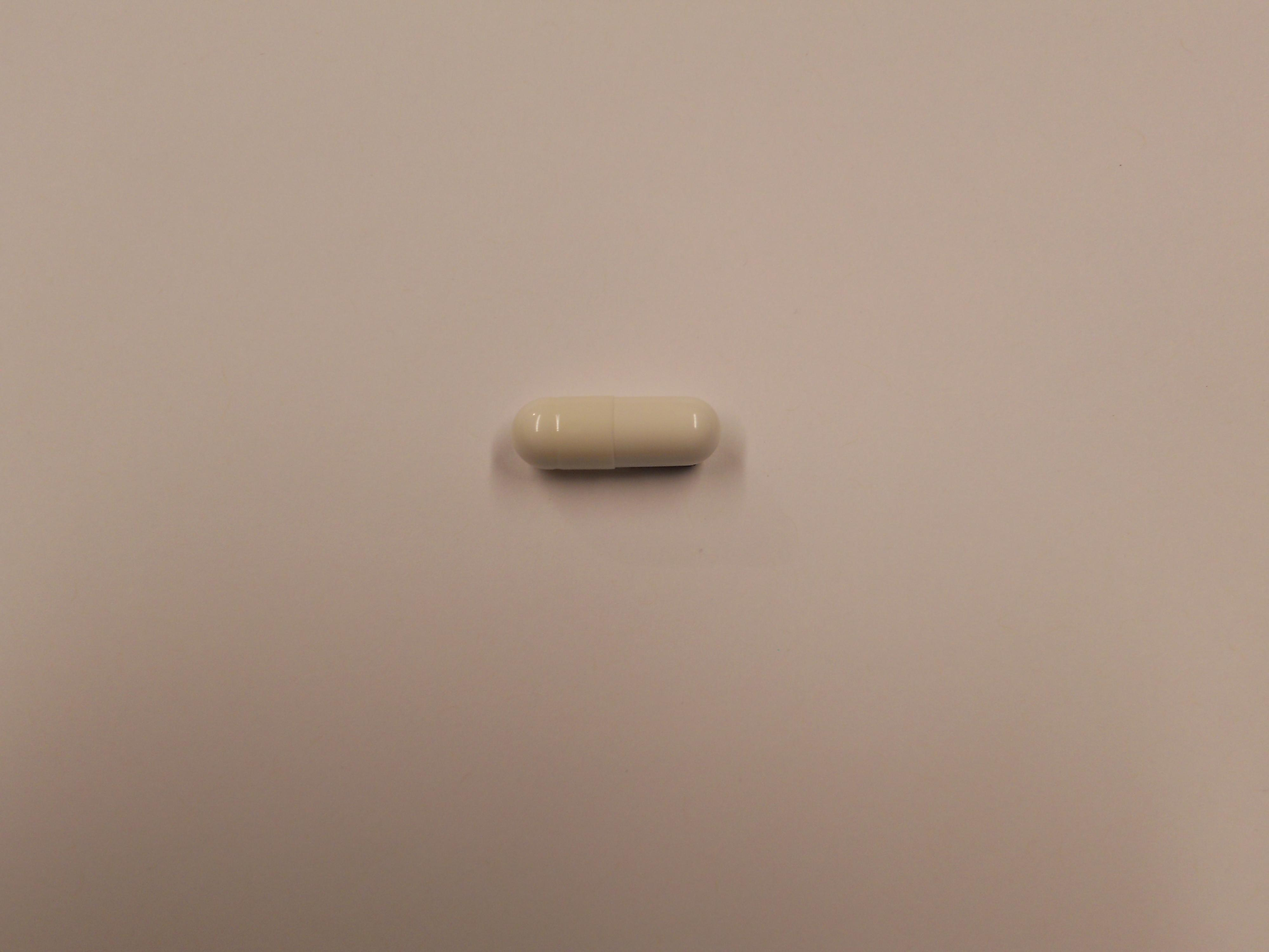Pill: (508, 387, 725, 481)
